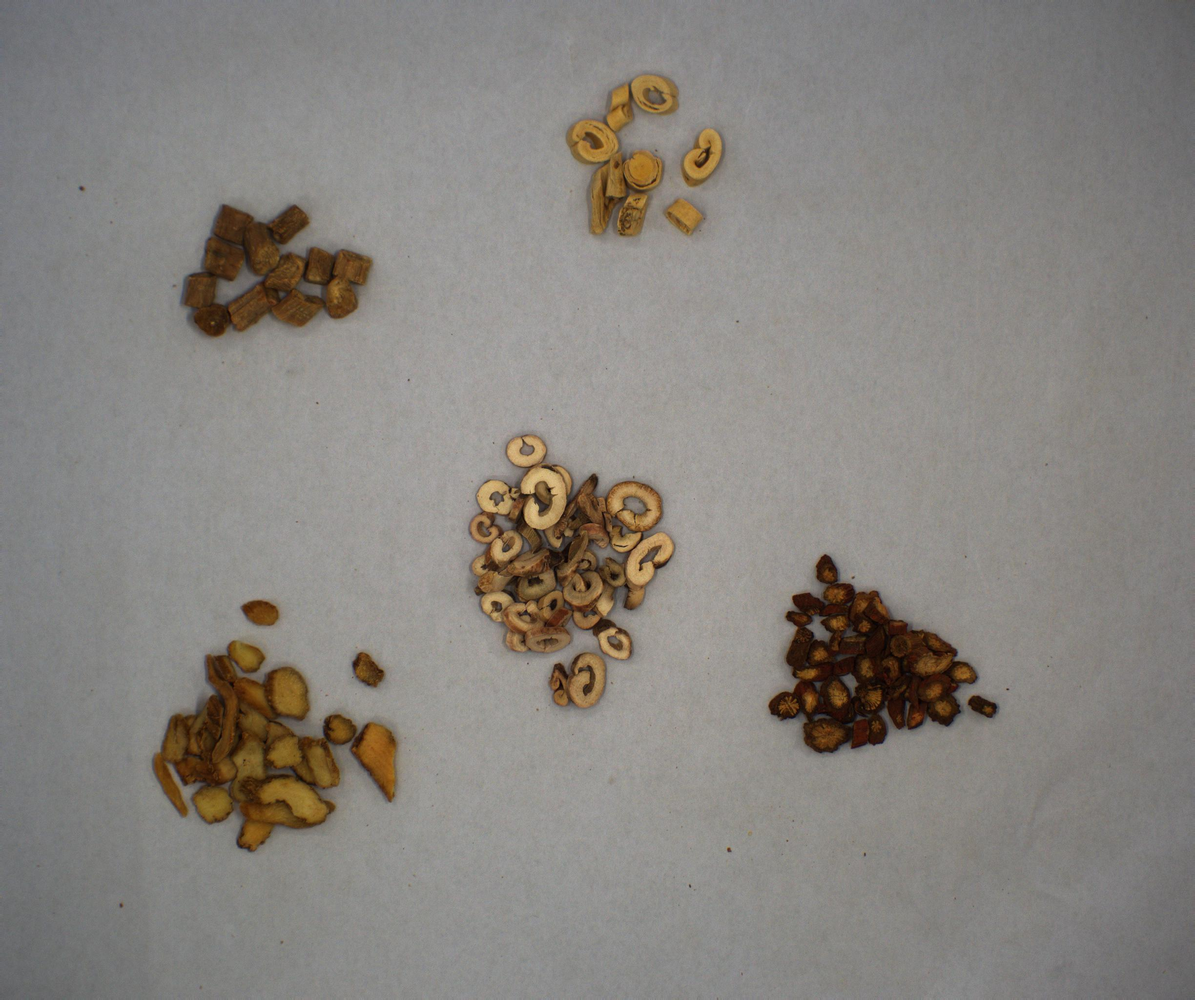baixianpi: (554, 73, 744, 250)
danshen: (762, 553, 1005, 758)
mudanpi: (466, 435, 677, 723)
niuxi: (173, 202, 380, 352)
yuzhu: (145, 601, 406, 854)
